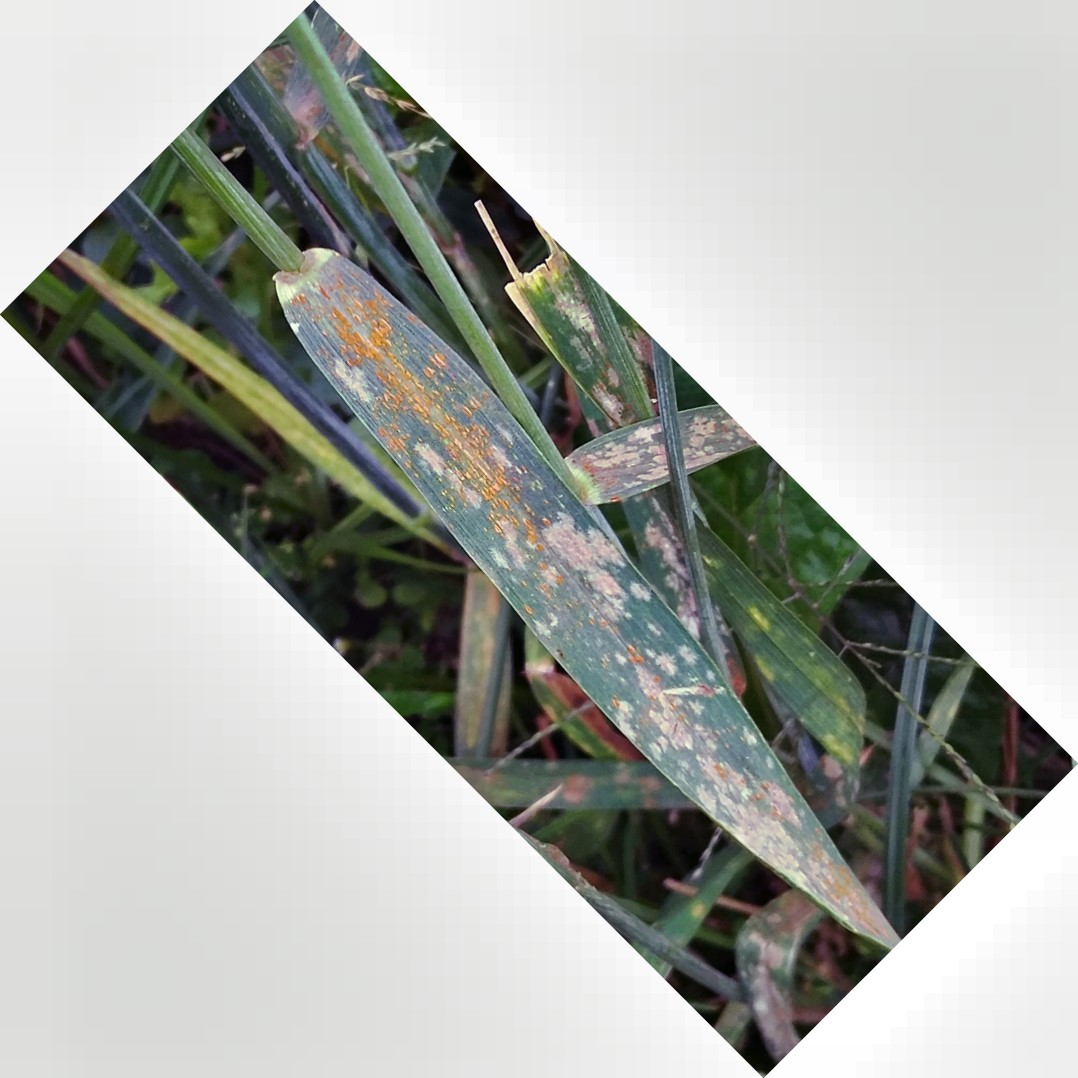Leaf Rust: (283, 270, 570, 604)
